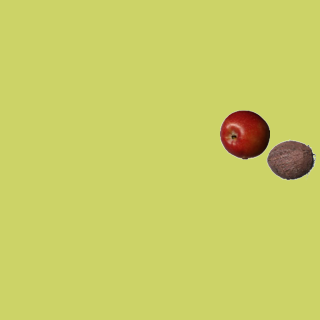Apple Braeburn: (219, 109, 269, 159)
Cocos: (265, 134, 315, 184)
